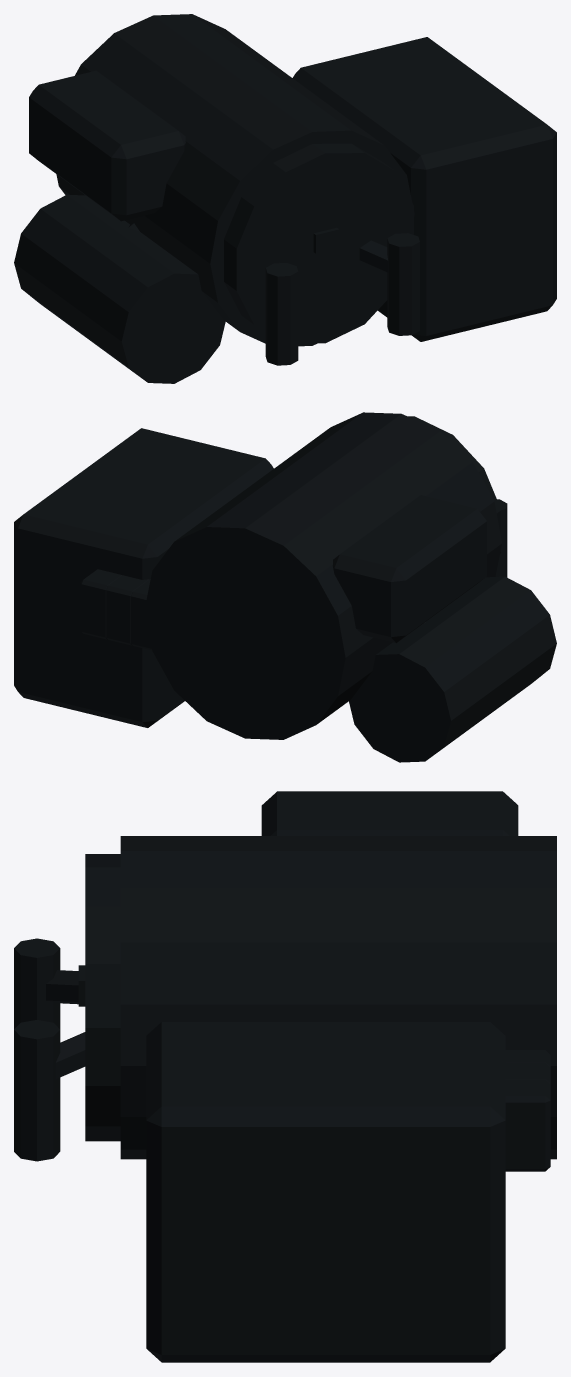
The model's file is Minigun762__Pitch.obj.
The picture shows the model from 3 angles, top to bottom: view 1: azimuth 30°, elevation 25°; view 2: azimuth 150°, elevation 25°; view 3: azimuth 270°, elevation 25°; orthographic projection. The views are drawn at different scales.
Parts seen in each view (by area): view 1: Minigun762_pitch; view 2: Minigun762_pitch; view 3: Minigun762_pitch.
Boxes of the visible parts, box(x1,y1,x2,y2) form: Minigun762_pitch: box(14, 14, 556, 383); Minigun762_pitch: box(14, 412, 556, 762); Minigun762_pitch: box(14, 791, 556, 1362).
Bounding box in the file's own units: 0.729 × 0.4033 × 0.5764.
